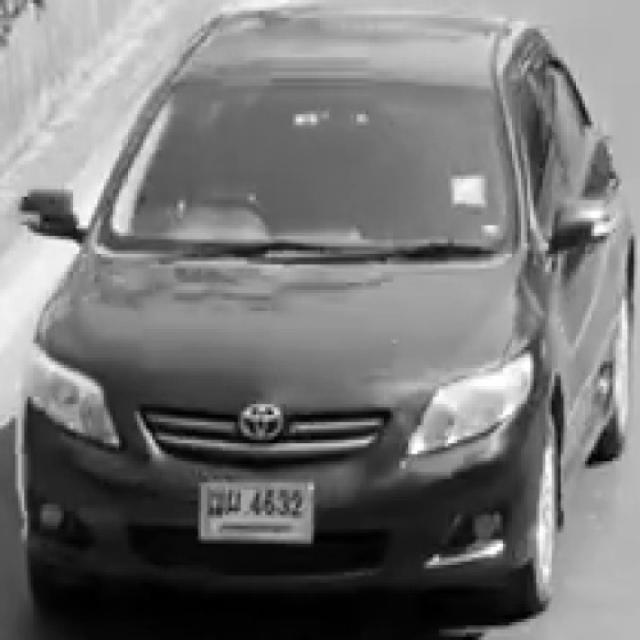plate: (202, 481, 314, 541)
